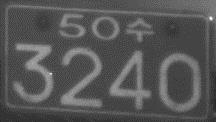0: (158, 51, 201, 113), (91, 14, 119, 40)
2: (60, 45, 104, 107)
3: (12, 43, 54, 103)
4: (109, 48, 151, 110)
5: (57, 12, 86, 38)
수: (125, 16, 156, 42)
